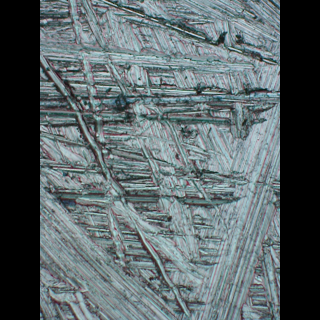d: (40, 0, 279, 319)
